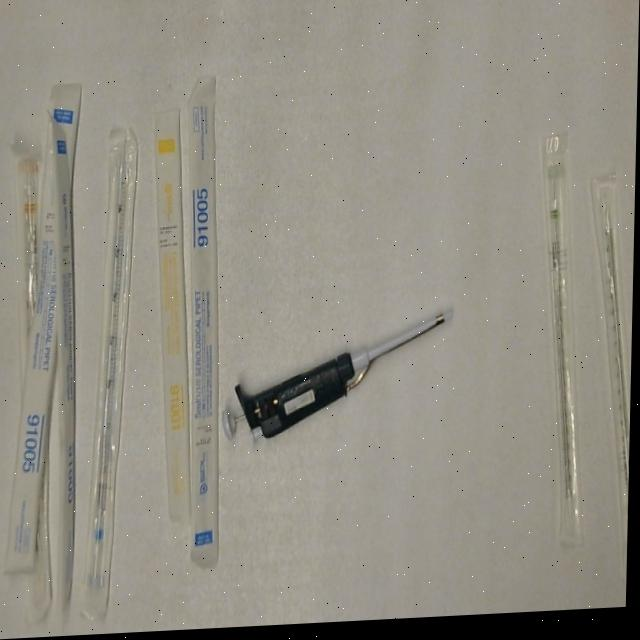Serelogical Pipet 1 mL: (147, 105, 205, 526)
Serelogical Pipet 10 mL: (11, 140, 50, 404)
Serelogical Pipet 2 mL: (534, 132, 598, 557)
Serelogical Pipet 5 mL: (2, 81, 85, 580), (177, 62, 243, 577), (80, 127, 146, 631), (39, 108, 89, 616)
Single Channel Pipettor: (220, 306, 461, 448)
